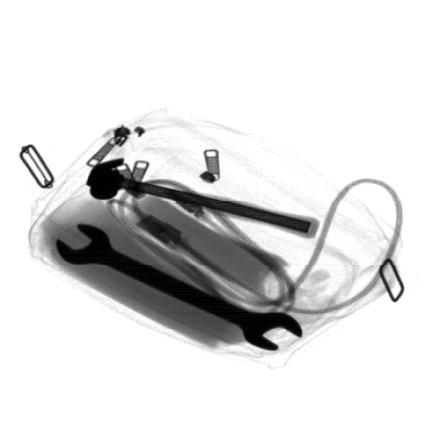Hammer: (85, 157, 320, 239)
Wrench: (55, 223, 303, 350)
